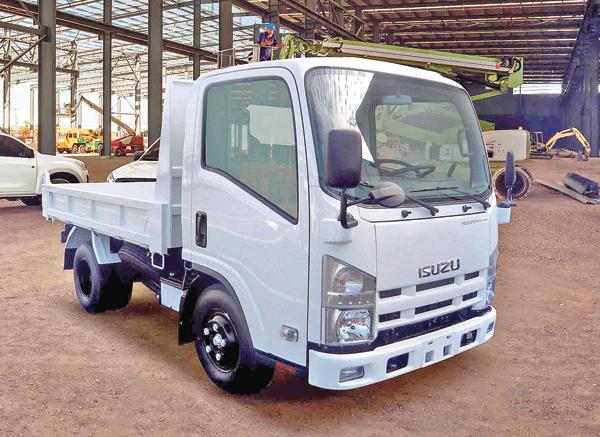car: (1, 132, 89, 206)
truck: (43, 55, 516, 392)
